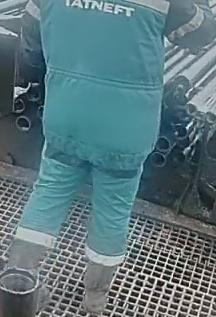vest: (34, 0, 171, 157)
